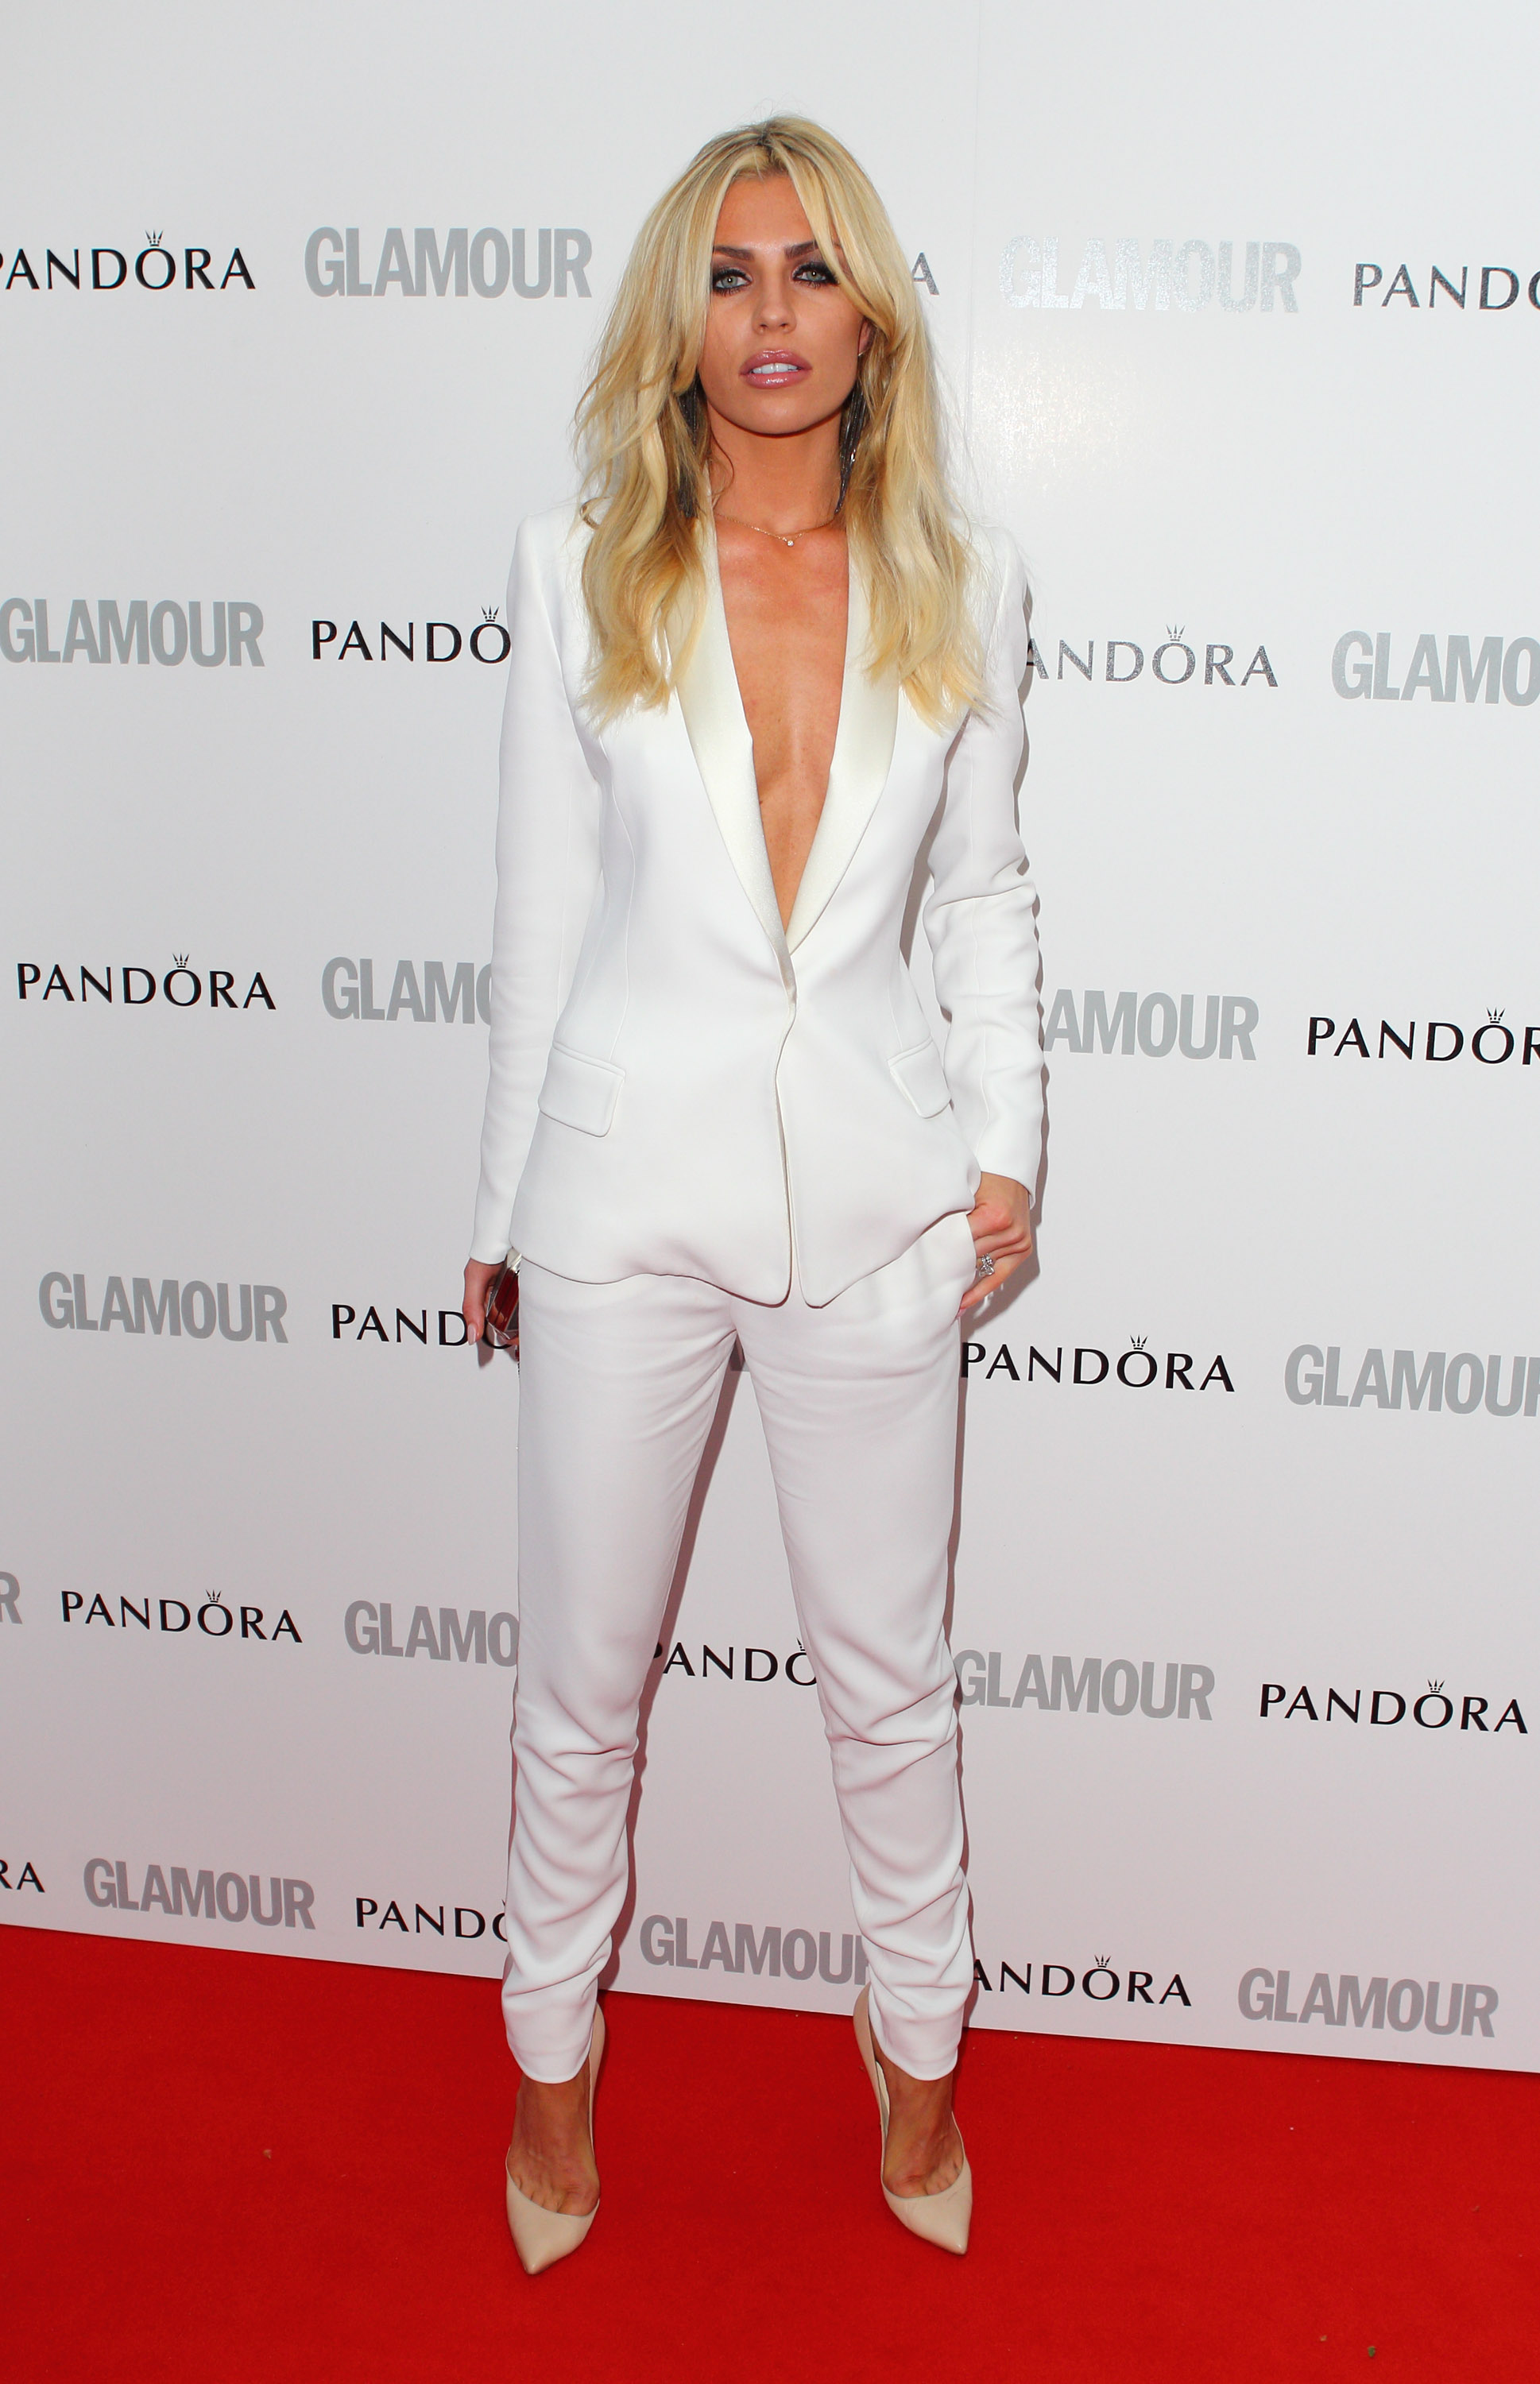feet: (441, 1943, 1015, 2295)
